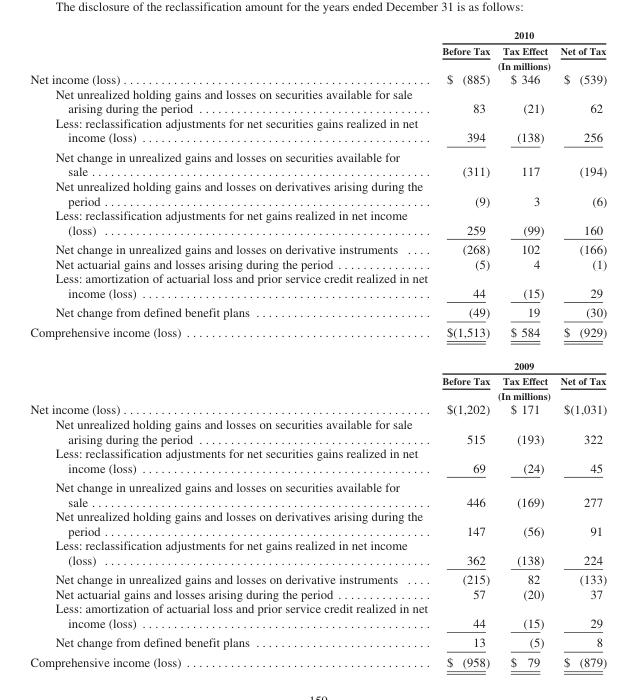table: (29, 29, 606, 668)
table column: (29, 29, 434, 668), (434, 29, 495, 668), (495, 29, 553, 668), (553, 29, 606, 668)
table column header: (29, 29, 606, 71)
table row: (29, 146, 606, 178), (29, 207, 606, 239), (29, 270, 606, 302), (29, 445, 606, 477), (29, 537, 606, 569), (29, 600, 606, 632), (29, 115, 606, 146), (29, 477, 606, 508), (29, 86, 606, 115), (29, 178, 606, 207), (29, 416, 606, 445), (29, 508, 606, 537), (29, 321, 606, 348), (29, 348, 606, 372), (29, 302, 606, 321), (29, 632, 606, 651), (29, 239, 606, 256), (29, 569, 606, 586), (29, 651, 606, 668), (29, 42, 606, 57), (29, 71, 606, 86), (29, 372, 606, 387), (29, 401, 606, 416), (29, 57, 606, 71), (29, 256, 606, 270), (29, 387, 606, 401), (29, 586, 606, 600), (29, 29, 606, 42)
table spanning cell: (434, 348, 606, 372), (434, 57, 606, 71), (434, 387, 606, 401), (434, 29, 606, 42)
